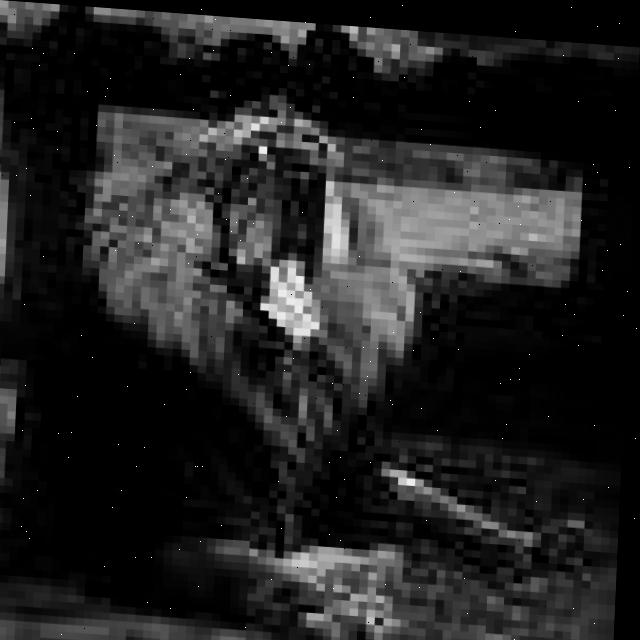Lion: (83, 69, 447, 501)
